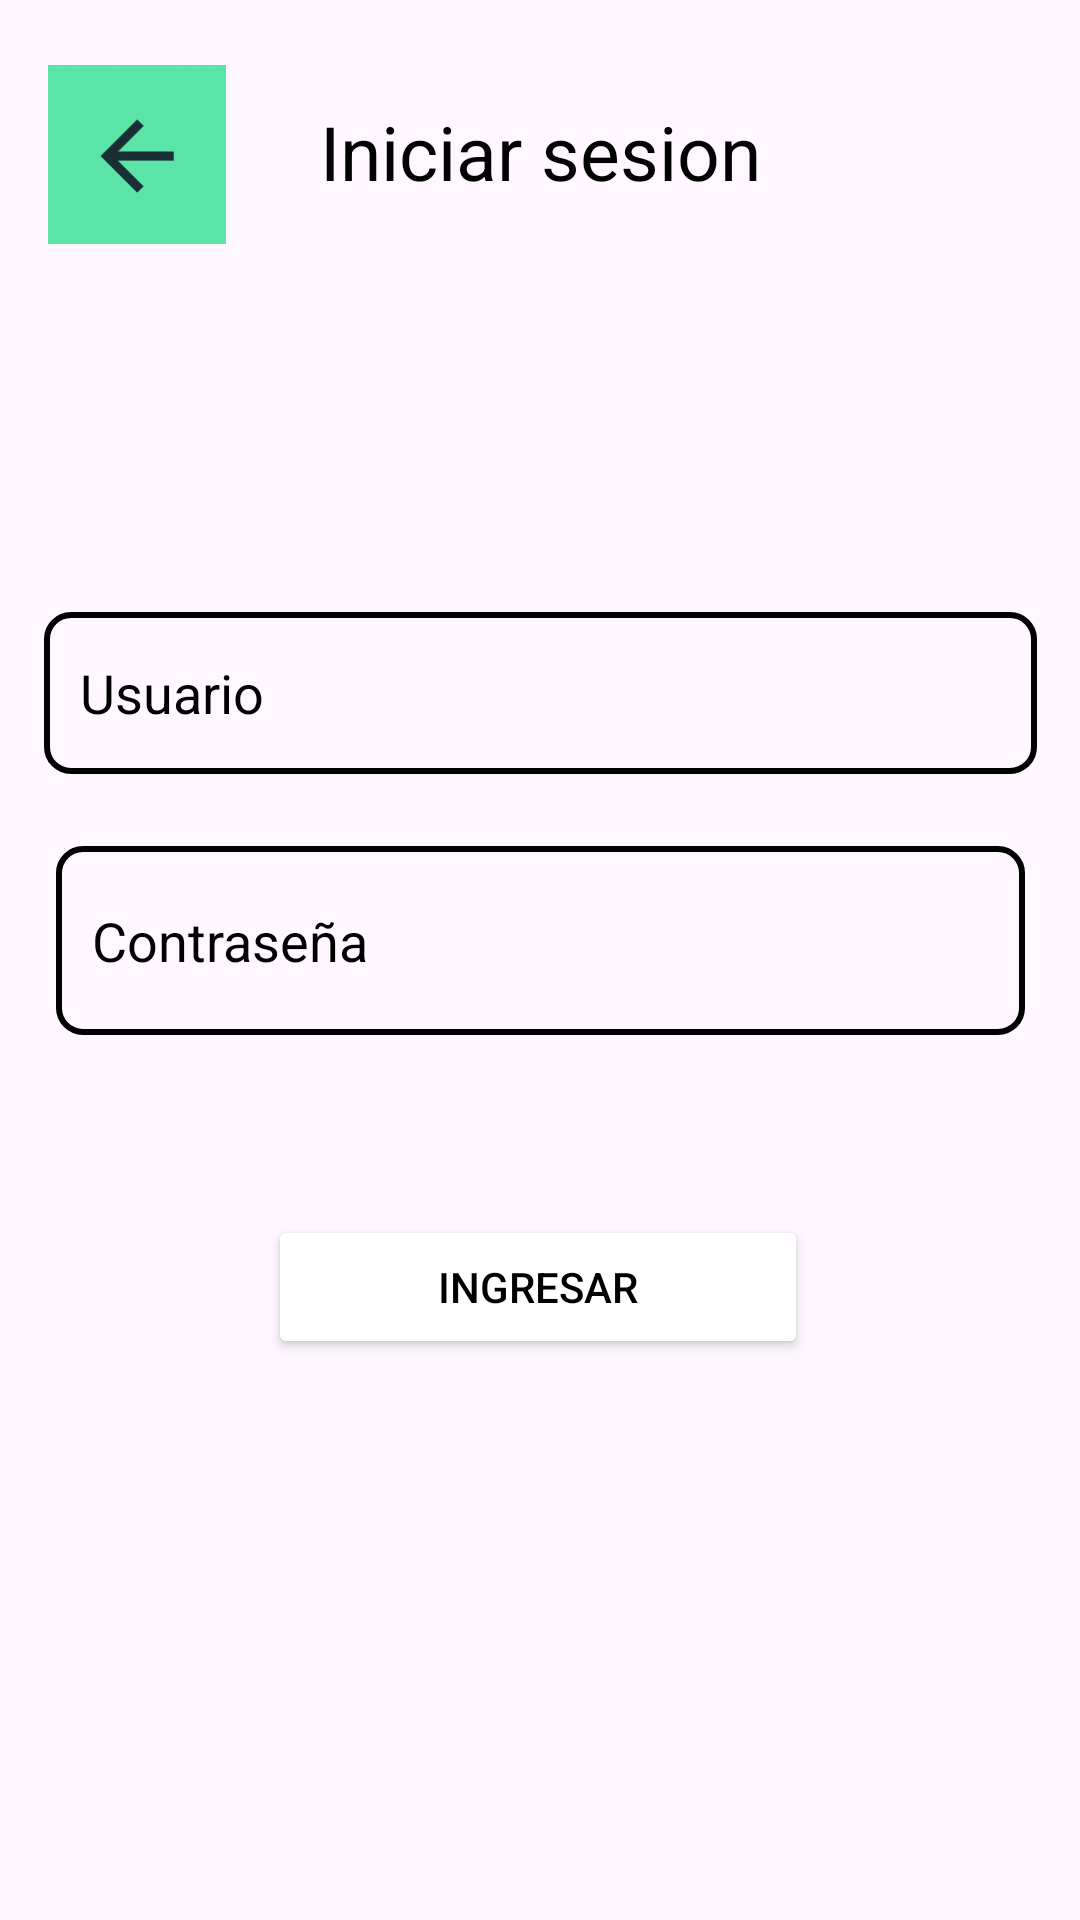

Screen size 1080px x 1920px. Icon name, then its center in pixels as (x=x, y=y):
imagen flecha: (x=137, y=154)
